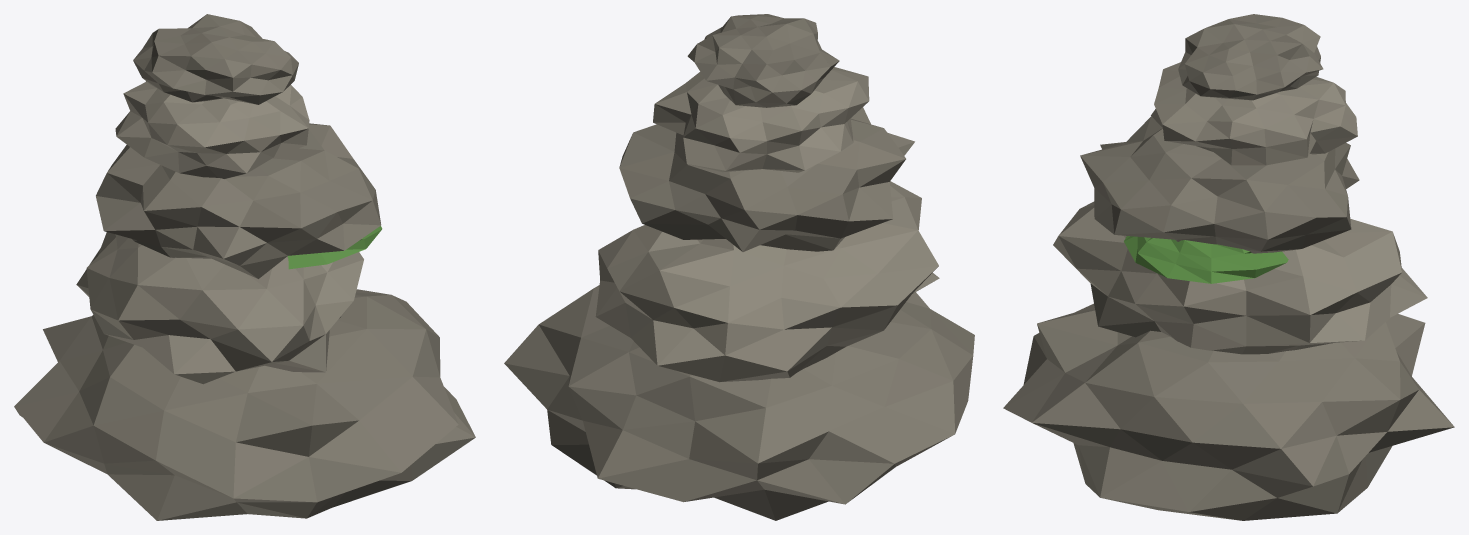
File: cairn-a.glb
3 renders of one model, left to right at view 1: azimuth 30°, elevation 25°; view 2: azimuth 150°, elevation 25°; view 3: azimuth 270°, elevation 25°, orthographic. The views are drawn at different scales.
Parts seen in each view (by area): view 1: Body_StoneDark, Body_Stone, Body_Plant; view 2: Body_StoneDark, Body_Stone; view 3: Body_StoneDark, Body_Stone, Body_Plant.
Part boxes in pixels (x1,y1,x2,y2): Body_StoneDark: [14, 14, 475, 520]; Body_Stone: [76, 81, 363, 384]; Body_Plant: [287, 226, 382, 269]; Body_StoneDark: [504, 14, 974, 520]; Body_Stone: [595, 67, 939, 382]; Body_StoneDark: [1003, 14, 1454, 520]; Body_Stone: [1053, 62, 1427, 354]; Body_Plant: [1124, 236, 1288, 283].
Size of the model in its own units: 1.2 by 1.3 by 1.2.
